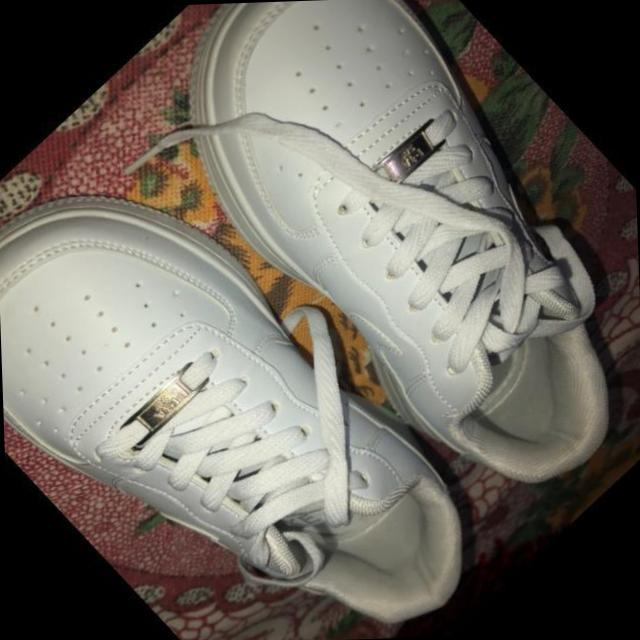nike_fake_airforce: (104, 0, 640, 551), (0, 103, 517, 640)
